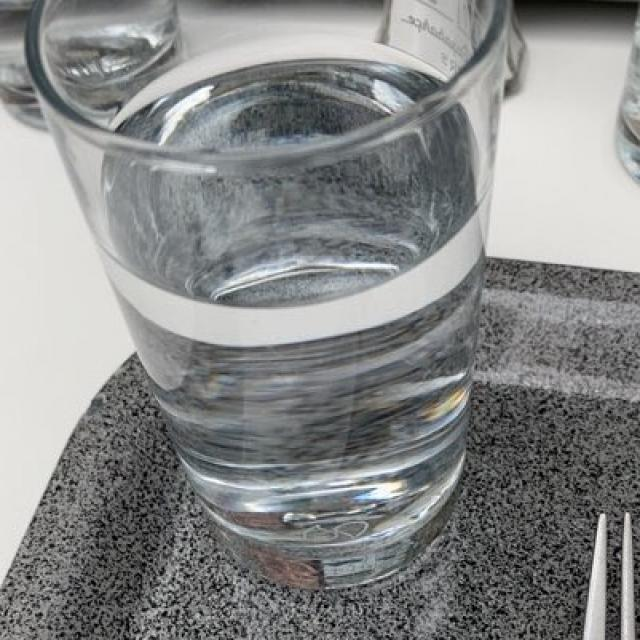water: (96, 62, 475, 549)
